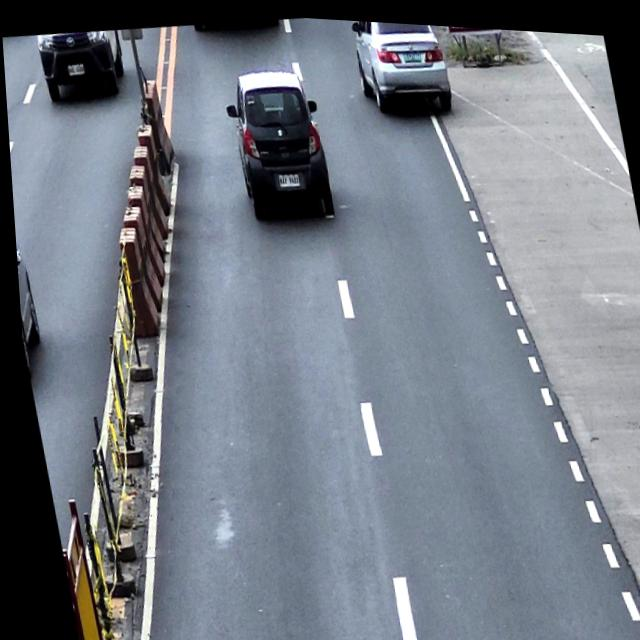Car: (218, 59, 336, 224), (348, 16, 454, 115), (34, 24, 129, 105), (11, 214, 41, 371)
License-Plate: (274, 166, 299, 186), (401, 44, 422, 60), (65, 61, 85, 76)
